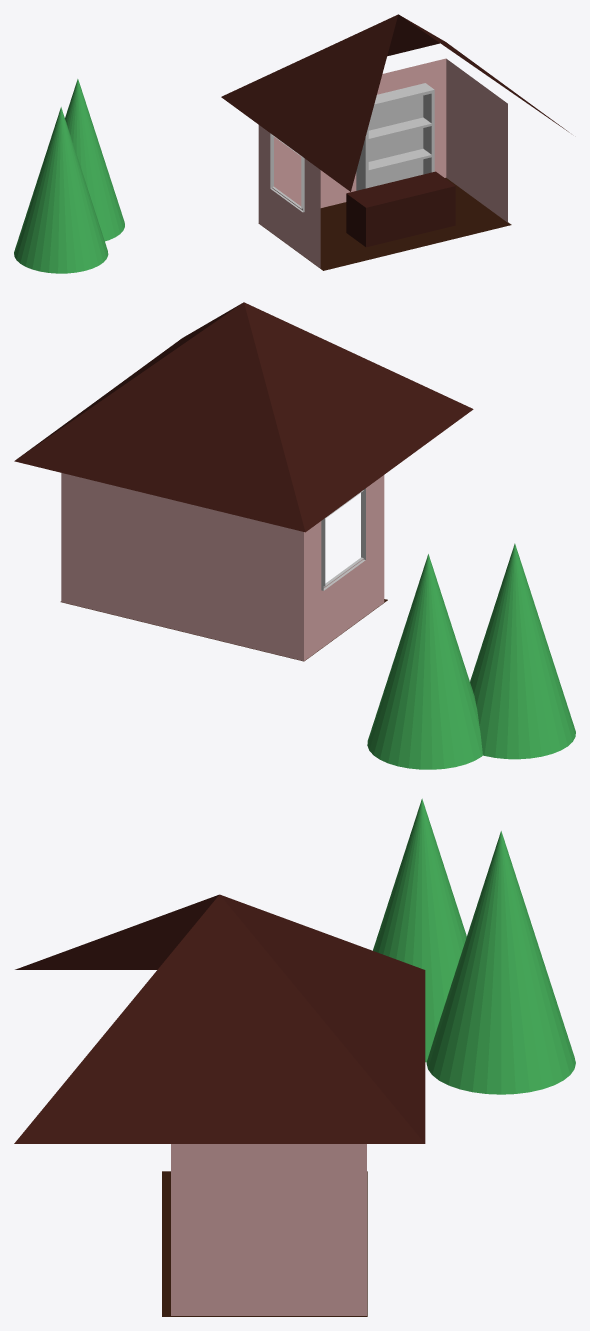
The model's file is libraryBG.obj.
3 renders of one model, top to bottom at view 1: azimuth 30°, elevation 25°; view 2: azimuth 150°, elevation 25°; view 3: azimuth 270°, elevation 25°, orthographic. The views are drawn at different scales.
Visible parts, largest first — view 1: Building, Roof, Tree, ShelfRight, Desk, Floor, Tree.001, Window; view 2: Roof, Building, Tree.001, Tree, Window; view 3: Roof, Building, Tree.001, Tree, Floor.
Part boxes in pixels (box(x1,y1,x2,y2)): Building: box(258, 58, 507, 268); Roof: box(221, 14, 569, 191); Tree: box(14, 107, 108, 273); ShelfRight: box(356, 83, 434, 190); Desk: box(346, 171, 455, 247); Floor: box(258, 178, 511, 270); Tree.001: box(65, 79, 124, 241); Window: box(270, 133, 304, 212); Roof: box(14, 302, 473, 532); Building: box(61, 473, 384, 660); Tree.001: box(367, 554, 482, 769); Tree: box(470, 543, 575, 759); Window: box(321, 488, 365, 590); Roof: box(14, 894, 425, 1143); Building: box(171, 1144, 366, 1315); Tree.001: box(426, 831, 575, 1094); Tree: box(373, 798, 466, 1062); Floor: box(162, 1171, 367, 1316).
Bounding box in the file's own units: 10.01 × 4.94 × 7.22.
